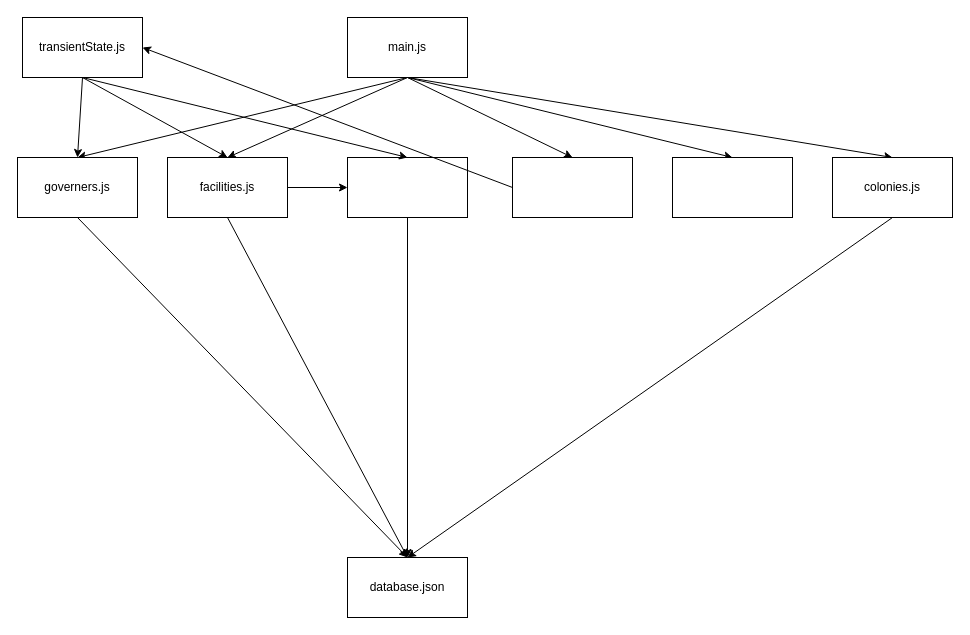
This 970x635 diagram has some shape labels left out. Here are the shapes that lost their labels. From the top down, the centre of each, then its label:
pixel 407 187: facilitiesMinerals.js
pixel 572 187: cartButton.js
pixel 732 187: displayCart.js
